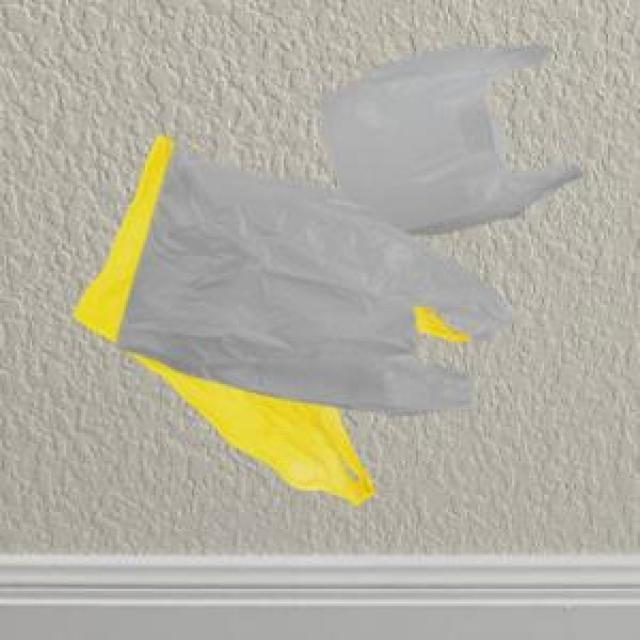waste: (75, 48, 580, 503)
